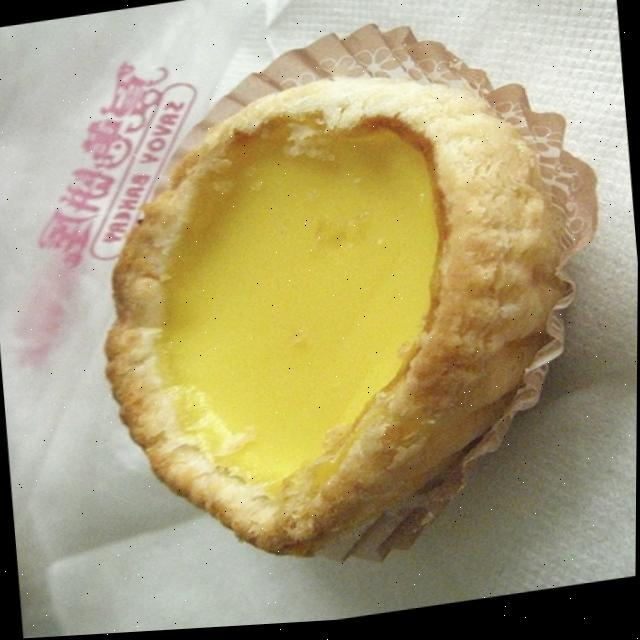炸货点心: (101, 30, 578, 600)
蛋糕甜品: (101, 30, 578, 600)
